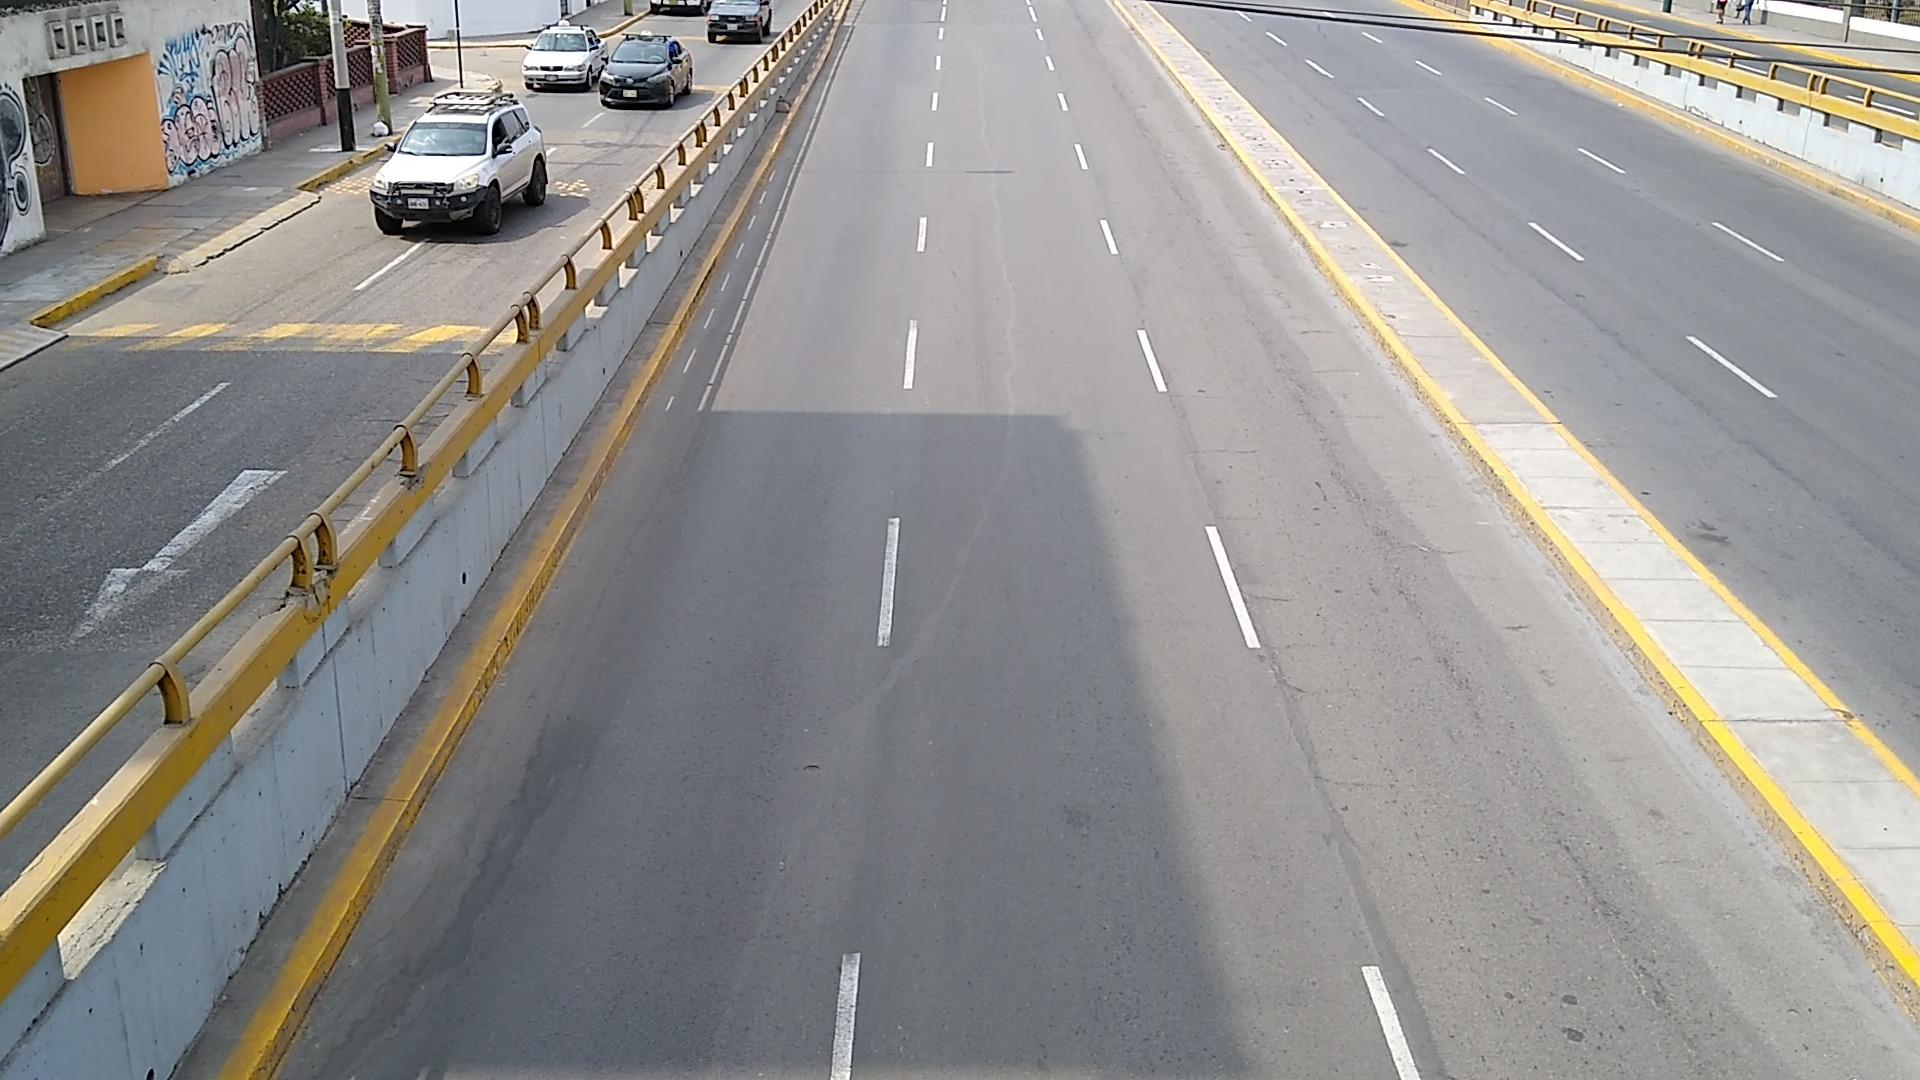car: (372, 90, 547, 232), (600, 34, 690, 107), (521, 26, 608, 90), (708, 0, 773, 41)
